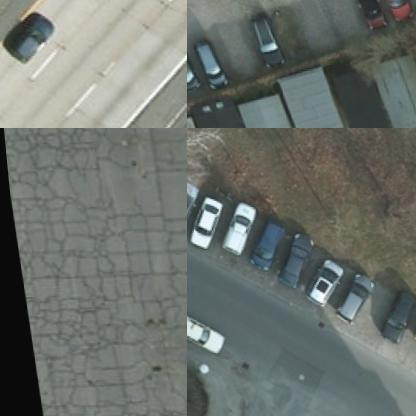car: (0, 11, 57, 69), (233, 220, 282, 276), (264, 234, 313, 290), (206, 203, 254, 259), (291, 261, 339, 310), (322, 276, 370, 325), (363, 295, 411, 344), (187, 198, 221, 253), (245, 14, 280, 66), (189, 42, 222, 92), (187, 310, 218, 361), (370, 0, 413, 26), (348, 0, 383, 31), (187, 175, 200, 235), (187, 46, 194, 95)
